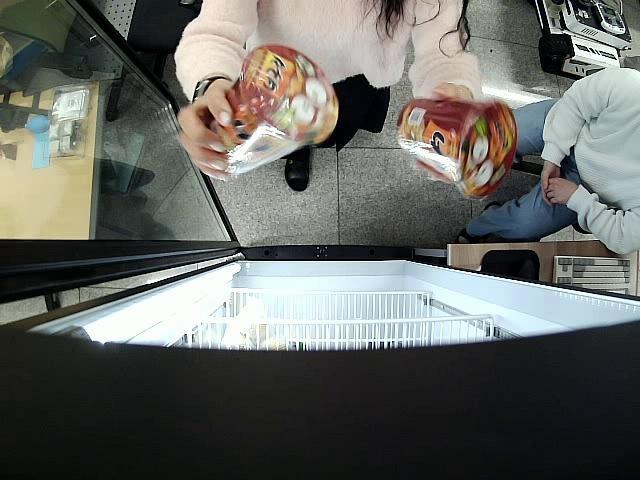06_nuguri_S: (207, 44, 340, 173), (397, 97, 518, 202)
